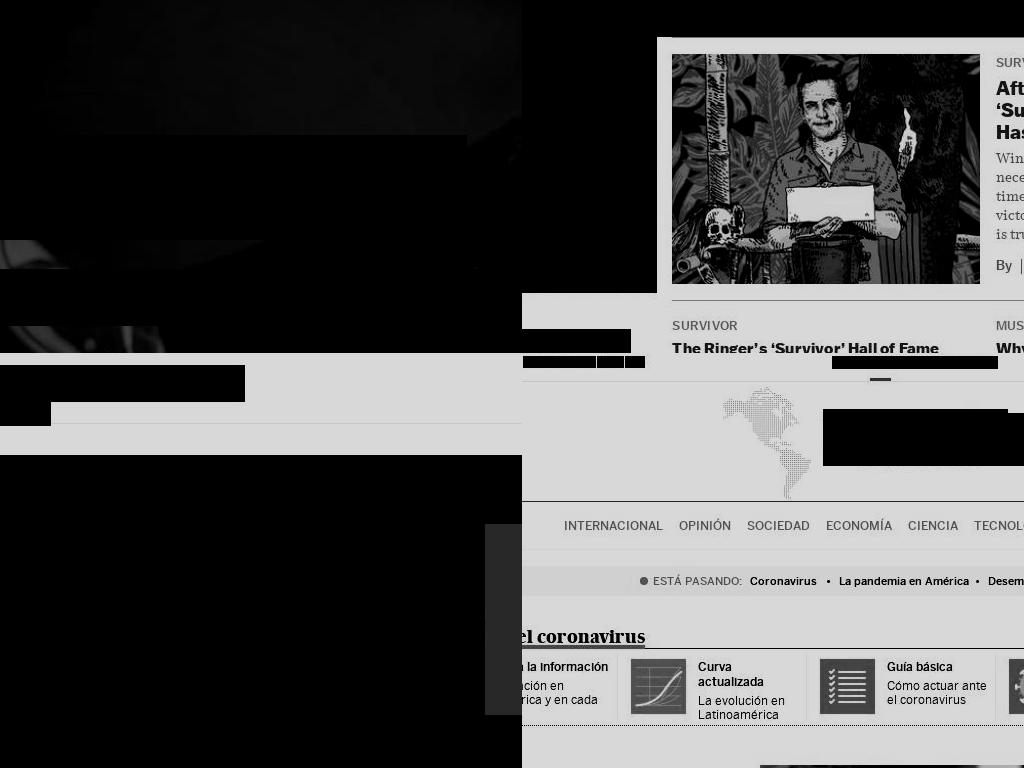button: (672, 54, 980, 285), (522, 37, 657, 293), (823, 413, 915, 466), (660, 0, 818, 26), (556, 510, 671, 541), (818, 0, 926, 26), (926, 0, 1024, 26), (818, 510, 900, 541), (739, 510, 818, 541), (671, 510, 739, 541), (838, 574, 988, 588), (900, 510, 966, 541), (966, 510, 1024, 541), (604, 0, 660, 26), (551, 0, 604, 26), (749, 574, 839, 588), (987, 574, 1024, 588), (862, 356, 898, 369), (897, 356, 932, 369), (931, 356, 965, 369), (964, 356, 998, 369), (832, 356, 863, 369)
field: (0, 365, 245, 402), (0, 402, 51, 426)
heading: (0, 524, 485, 715), (0, 135, 467, 240), (672, 339, 940, 353)
iframe: (522, 620, 1024, 753)
image: (672, 54, 980, 285), (0, 455, 522, 524), (522, 37, 657, 293), (0, 715, 522, 768), (823, 409, 1008, 466), (0, 63, 31, 116), (0, 373, 14, 394)
label: (0, 365, 28, 386)
text: (0, 575, 485, 672), (0, 269, 467, 326), (915, 413, 1024, 466), (639, 574, 750, 588), (672, 317, 739, 335), (523, 356, 596, 368), (995, 317, 1024, 335), (995, 54, 1024, 71), (995, 256, 1016, 274), (597, 356, 624, 368), (625, 356, 645, 368)
